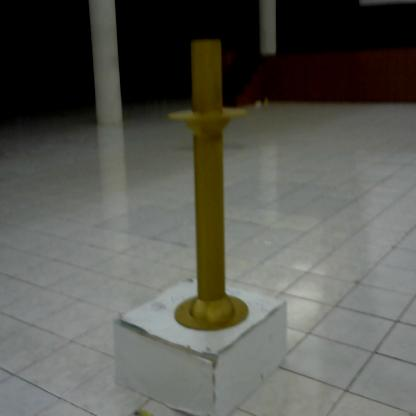pole: (162, 30, 253, 339)
